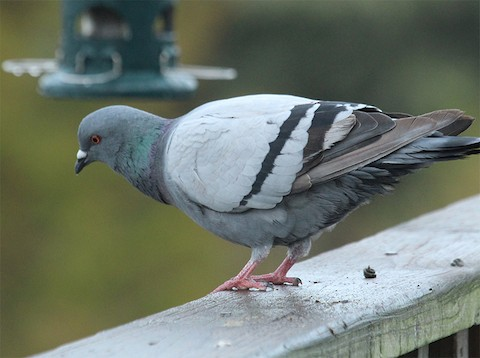pigeon: (56, 71, 476, 304)
